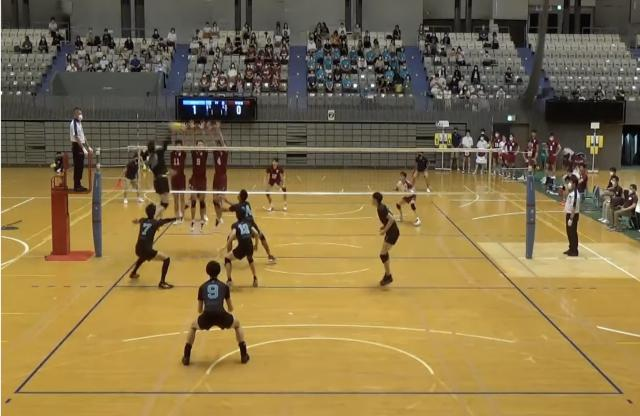spike: (141, 120, 182, 226)
